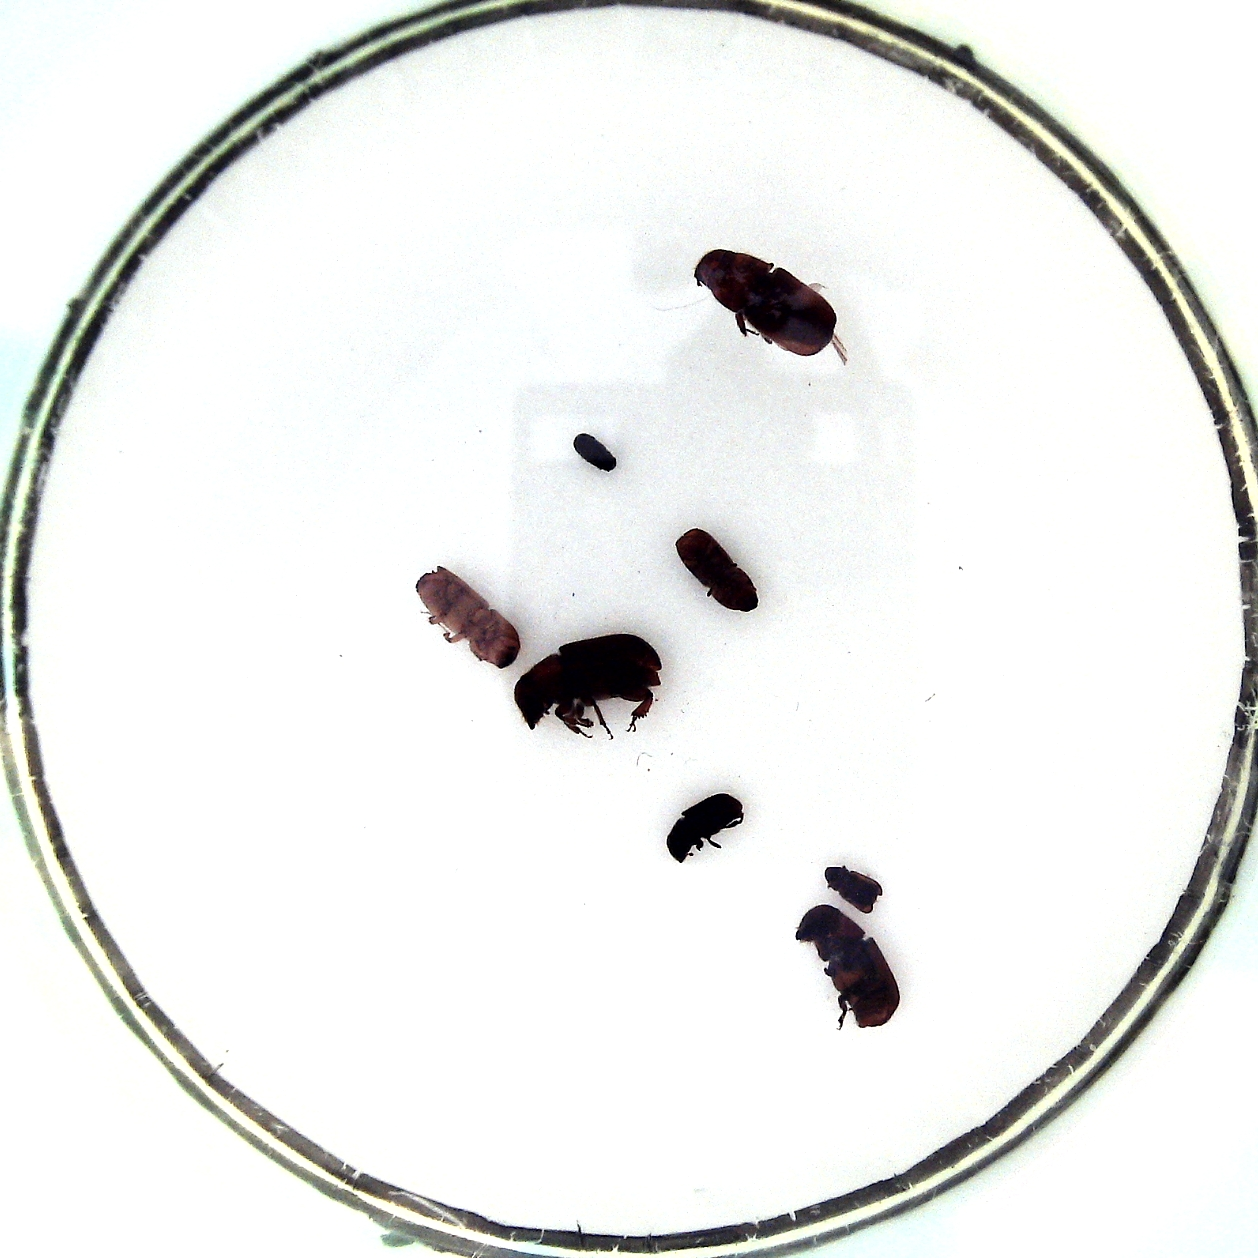Boerner: (415, 564, 521, 669)
Leconte: (694, 247, 836, 357), (514, 632, 664, 732), (794, 903, 902, 1028)
acuminatus: (573, 432, 616, 473)
armandi: (667, 793, 744, 864)
coleoptera: (824, 865, 882, 914)
linnaeus: (675, 526, 759, 613)
